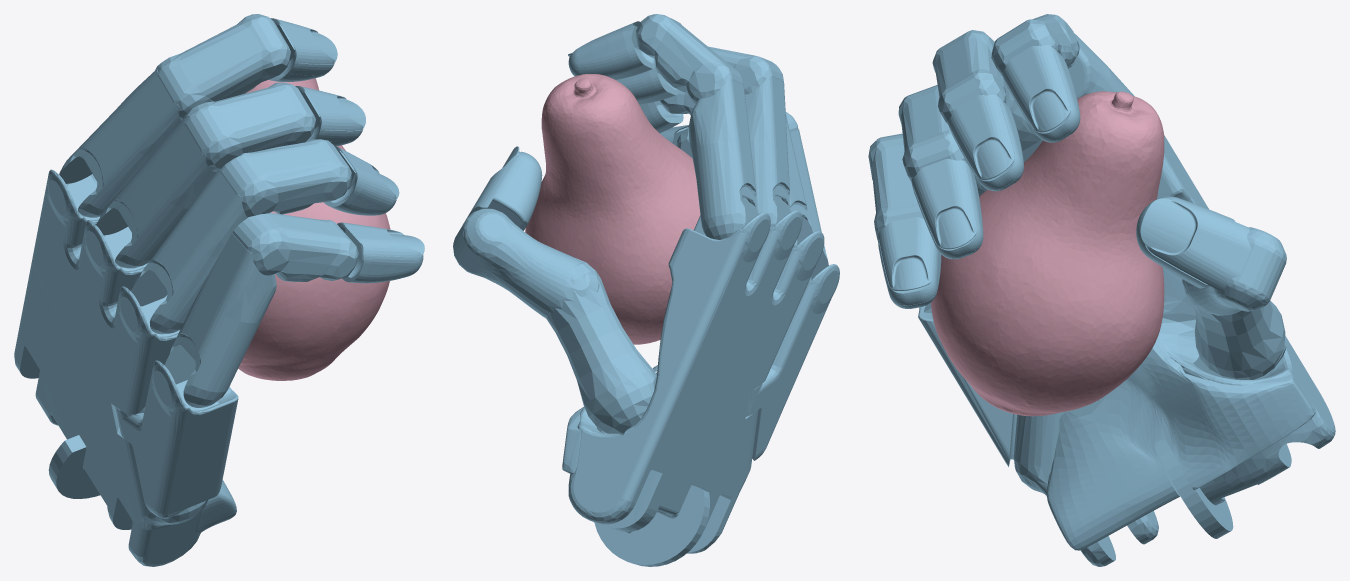
3 renders of one model, left to right at view 1: azimuth 30°, elevation 25°; view 2: azimuth 150°, elevation 25°; view 3: azimuth 270°, elevation 25°, orthographic. The views are drawn at different scales.
Parts seen in each view (by area): view 1: world; view 2: world; view 3: world.
Boxes of the visible parts, x1=… form: world: x1=14, y1=14, x2=424, y2=566; world: x1=453, y1=14, x2=839, y2=566; world: x1=868, y1=14, x2=1335, y2=566.
Bounding box in the file's own units: 0.0946 × 0.1775 × 0.131.
